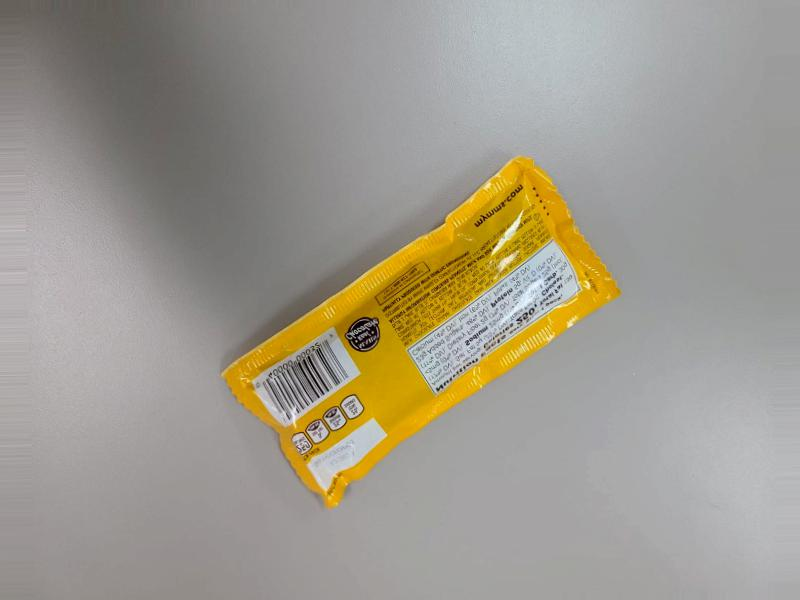m&m: (276, 199, 626, 516)
